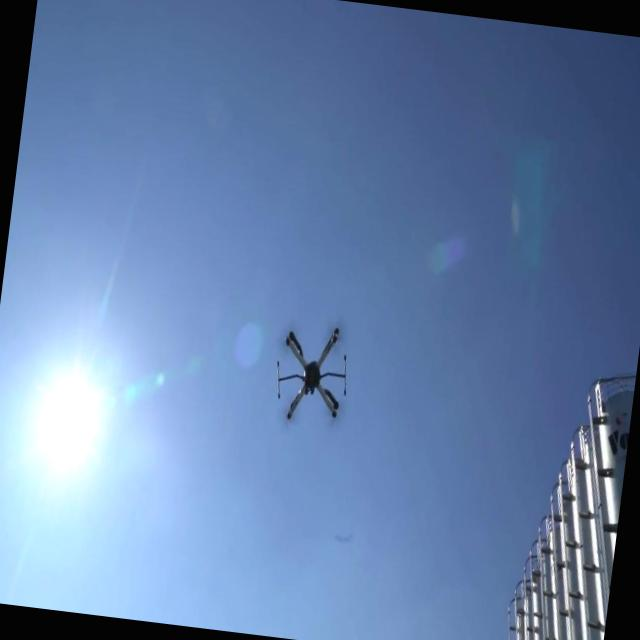drone: (266, 316, 356, 429)
